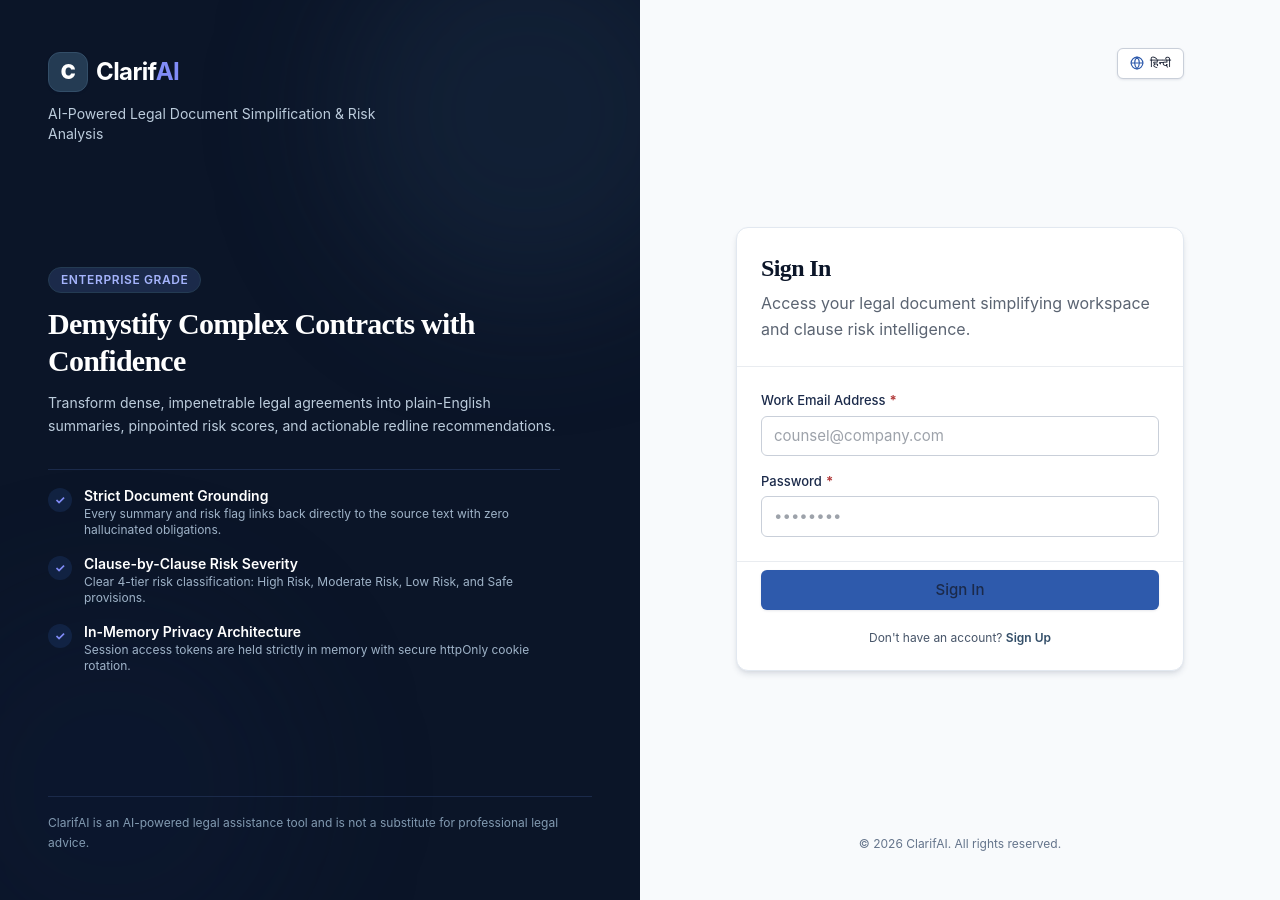
Test: Auth Pages (PRD Section 8.1, Ch. 10/11, Ch. 22.2/22.3, Ch. 31) › LoginPage › shows generic error on invalid credentials per PRD Ch. 31
In the field labelled "Work Email Address *": (960, 436) [761, 416, 1159, 456], type "counsel@clarifai.internal"
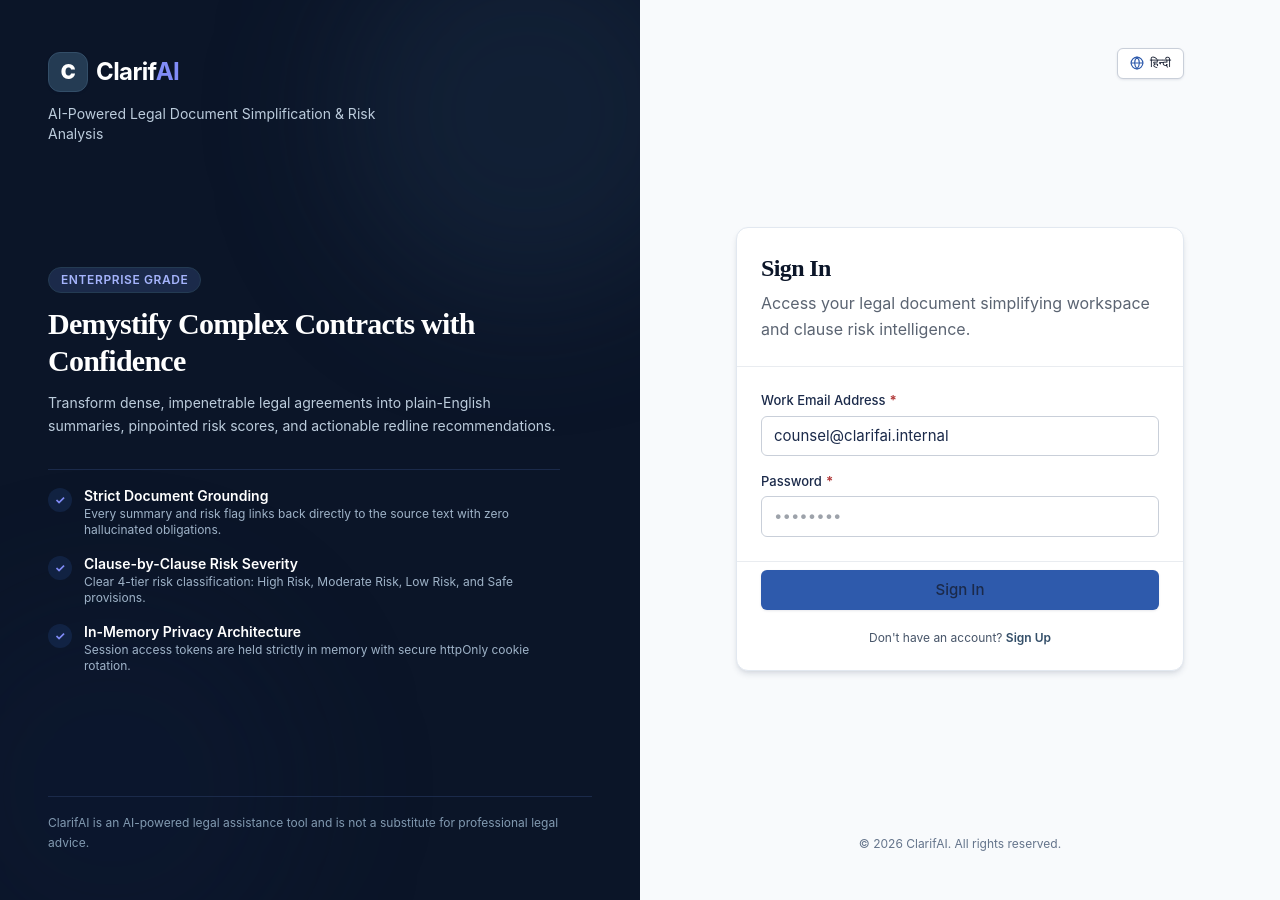
In the password field labelled "Password *": (960, 517) [761, 496, 1159, 537], type "WrongPass!"
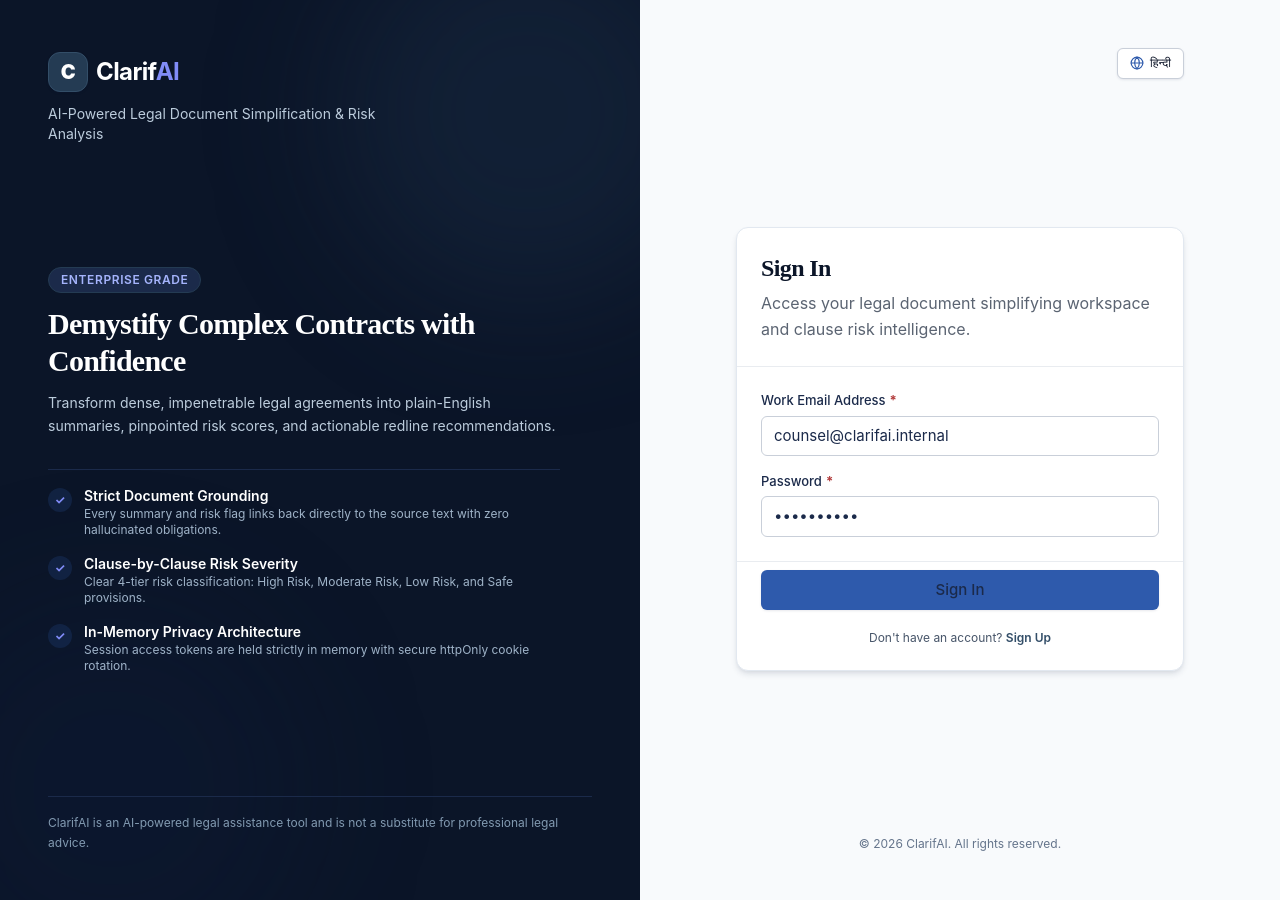
Click the button "Sign In": (960, 590) [761, 570, 1159, 610]
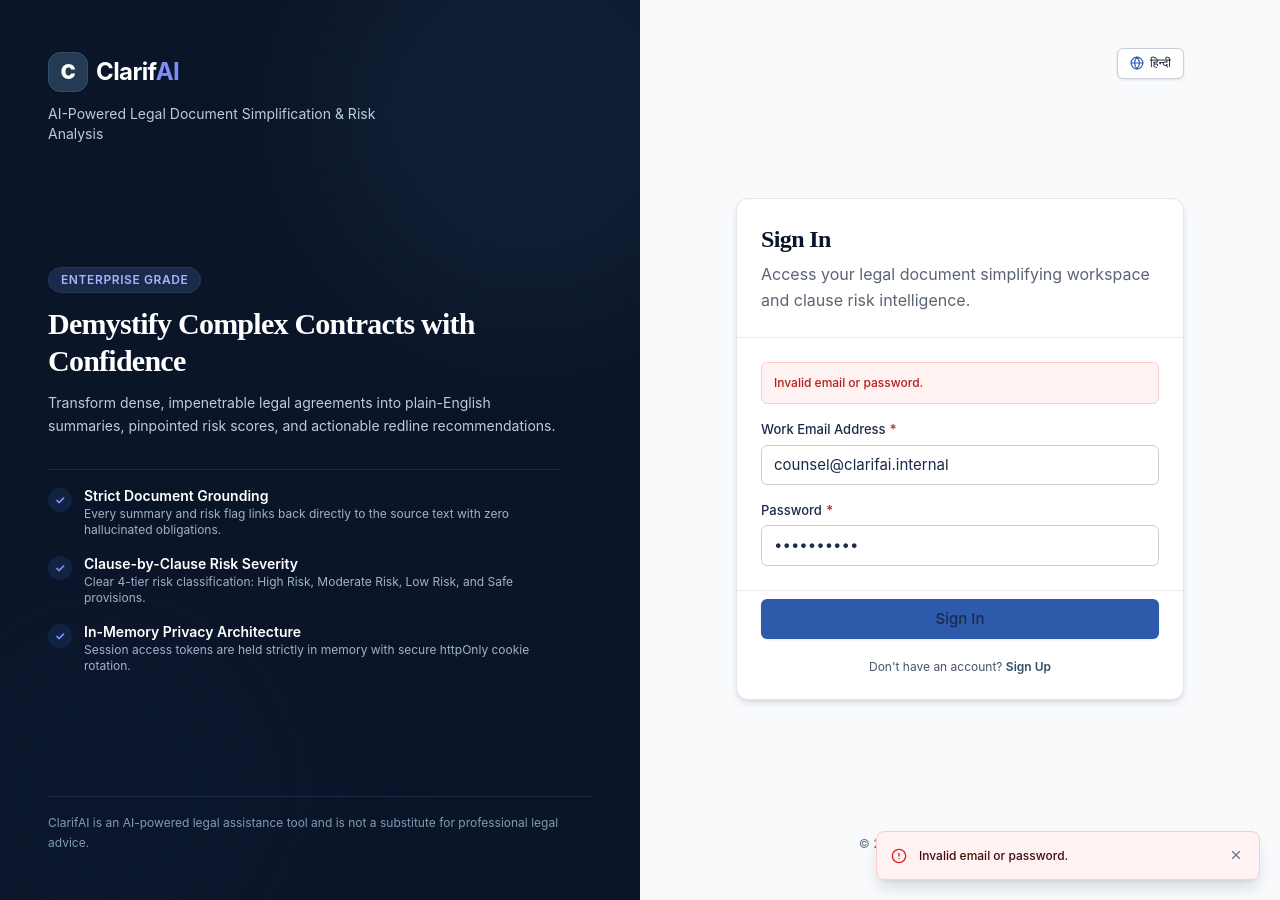
Expected: the text "Invalid email or password." is shown, [919, 848, 1068, 862]
